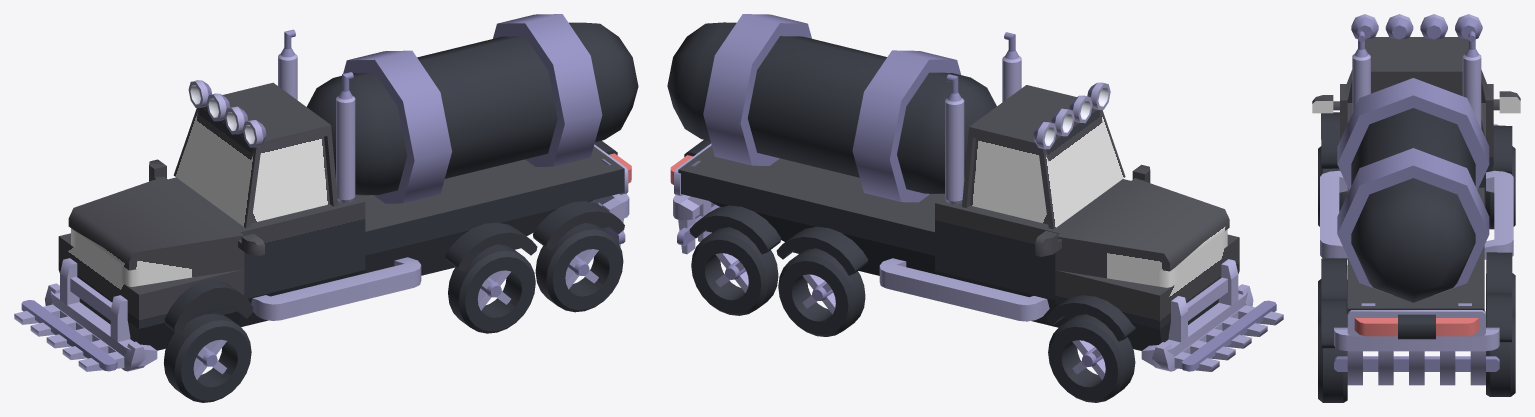
The model's file is tanker.glb.
3 views of the same model, side by side, from view 1: azimuth 30°, elevation 25°; view 2: azimuth 150°, elevation 25°; view 3: azimuth 270°, elevation 25° (orthographic). The views are drawn at different scales.
Parts seen in each view (by area): view 1: detail_tank, body_frontTruck, wheel_spokes (×3), body_topSteep, body_backFlat, body_standard, wheel_coverStandardHigh (×3), bumper_grill (×2), bumper, bumper_large, detail_exhaustVerticalThin (×2), detail_lightRow% (+1 smaller); view 2: detail_tank, body_frontTruck, wheel_spokes (×3), body_topSteep, body_backFlat, body_standard, wheel_coverStandardHigh (×3), bumper_grill (×2), bumper, bumper_large, detail_exhaustVerticalThin (×2), detail_lightRow% (+2 smaller); view 3: detail_tank, bumper_grill, wheel_coverStandardHigh (×6), body_topSteep, wheel_spokes (×6), detail_sirenDouble, bumper (×2), body_backFlat, detail_exhaustVerticalThin (×2), detail_lightRow%, body_frontTruck, detail_mirror (×2) (+1 smaller).
Part boxes in pixels (left/top/right/bottom): detail_tank: left=307, top=14, right=638, bottom=203; body_frontTruck: left=58, top=176, right=244, bottom=350; wheel_spokes (×3): left=164, top=223, right=623, bottom=402; body_topSteep: left=173, top=82, right=338, bottom=227; body_backFlat: left=357, top=146, right=624, bottom=275; body_standard: left=168, top=177, right=365, bottom=326; wheel_coverStandardHigh (×3): left=164, top=201, right=624, bottom=334; bumper_grill (×2): left=14, top=193, right=629, bottom=371; bumper: left=251, top=257, right=421, bottom=320; bumper_large: left=50, top=258, right=157, bottom=366; detail_exhaustVerticalThin (×2): left=278, top=29, right=355, bottom=202; detail_lightRow%: left=188, top=80, right=266, bottom=147; detail_tank: left=667, top=14, right=996, bottom=202; body_frontTruck: left=1055, top=178, right=1239, bottom=350; wheel_spokes (×3): left=691, top=227, right=1135, bottom=402; body_topSteep: left=962, top=85, right=1125, bottom=229; body_backFlat: left=678, top=145, right=944, bottom=275; body_standard: left=935, top=179, right=1130, bottom=327; wheel_coverStandardHigh (×3): left=689, top=205, right=1135, bottom=341; bumper_grill (×2): left=673, top=194, right=1283, bottom=371; bumper: left=879, top=258, right=1049, bottom=321; bumper_large: left=1141, top=259, right=1247, bottom=366; detail_exhaustVerticalThin (×2): left=945, top=32, right=1021, bottom=204; detail_lightRow%: left=1033, top=82, right=1110, bottom=149; detail_tank: left=1337, top=78, right=1489, bottom=302; bumper_grill: left=1334, top=327, right=1499, bottom=385; wheel_coverStandardHigh (×6): left=1321, top=112, right=1512, bottom=348; body_topSteep: left=1347, top=37, right=1485, bottom=136; wheel_spokes (×6): left=1318, top=146, right=1515, bottom=402; detail_sirenDouble: left=1347, top=303, right=1485, bottom=339; bumper (×2): left=1320, top=170, right=1513, bottom=259; body_backFlat: left=1347, top=187, right=1484, bottom=312; detail_exhaustVerticalThin (×2): left=1352, top=31, right=1481, bottom=128; detail_lightRow%: left=1351, top=14, right=1482, bottom=39; body_frontTruck: left=1340, top=70, right=1493, bottom=172; detail_mirror (×2): left=1312, top=91, right=1520, bottom=113.
Bounding box in the file's own units: 4.53 × 2.11 × 1.51.
1 material, 1 textured.
